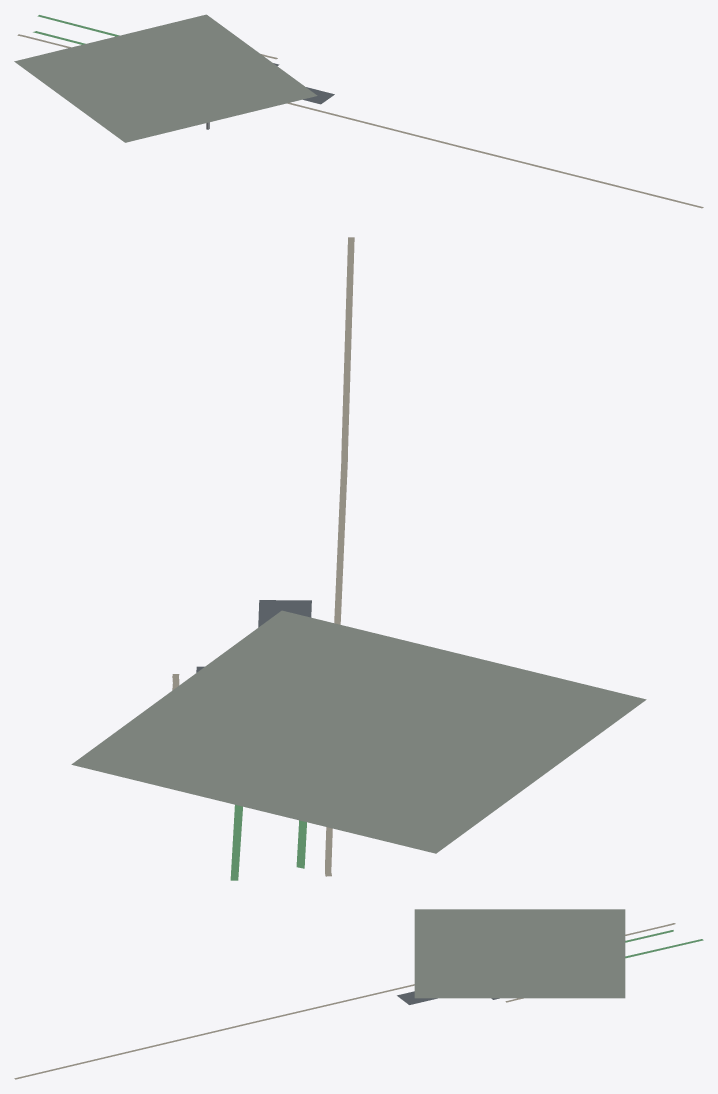
3 views of the same model, one above another, from view 1: azimuth 30°, elevation 25°; view 2: azimuth 150°, elevation 25°; view 3: azimuth 270°, elevation 25° (orthographic). The views are drawn at different scales.
Bounding box in the file's own units: 245 × 12.02 × 419.
